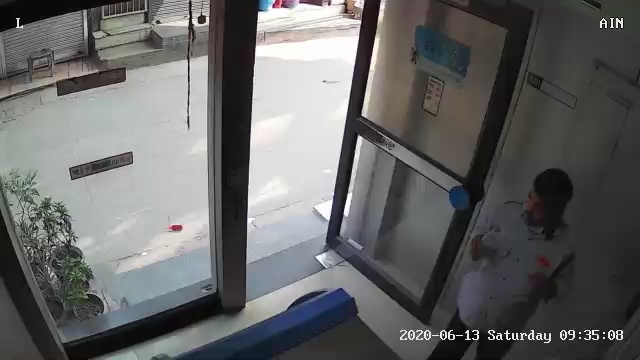open: (194, 3, 552, 339)
